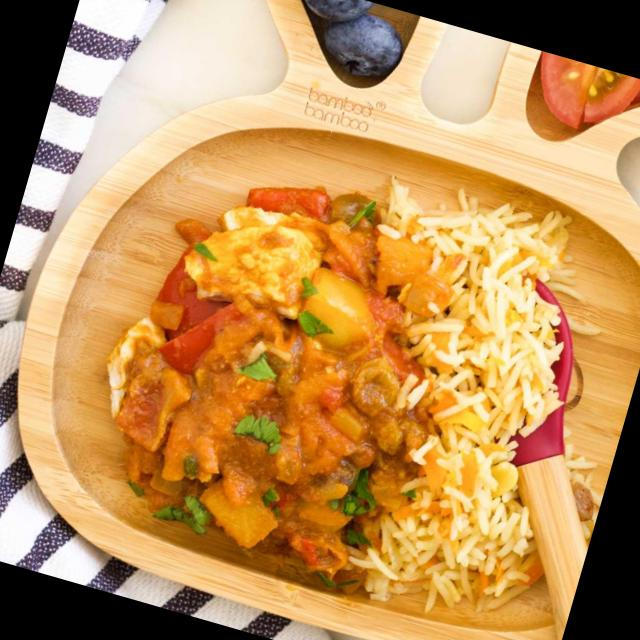chicken: (106, 186, 436, 549)
rice: (308, 205, 586, 621)
